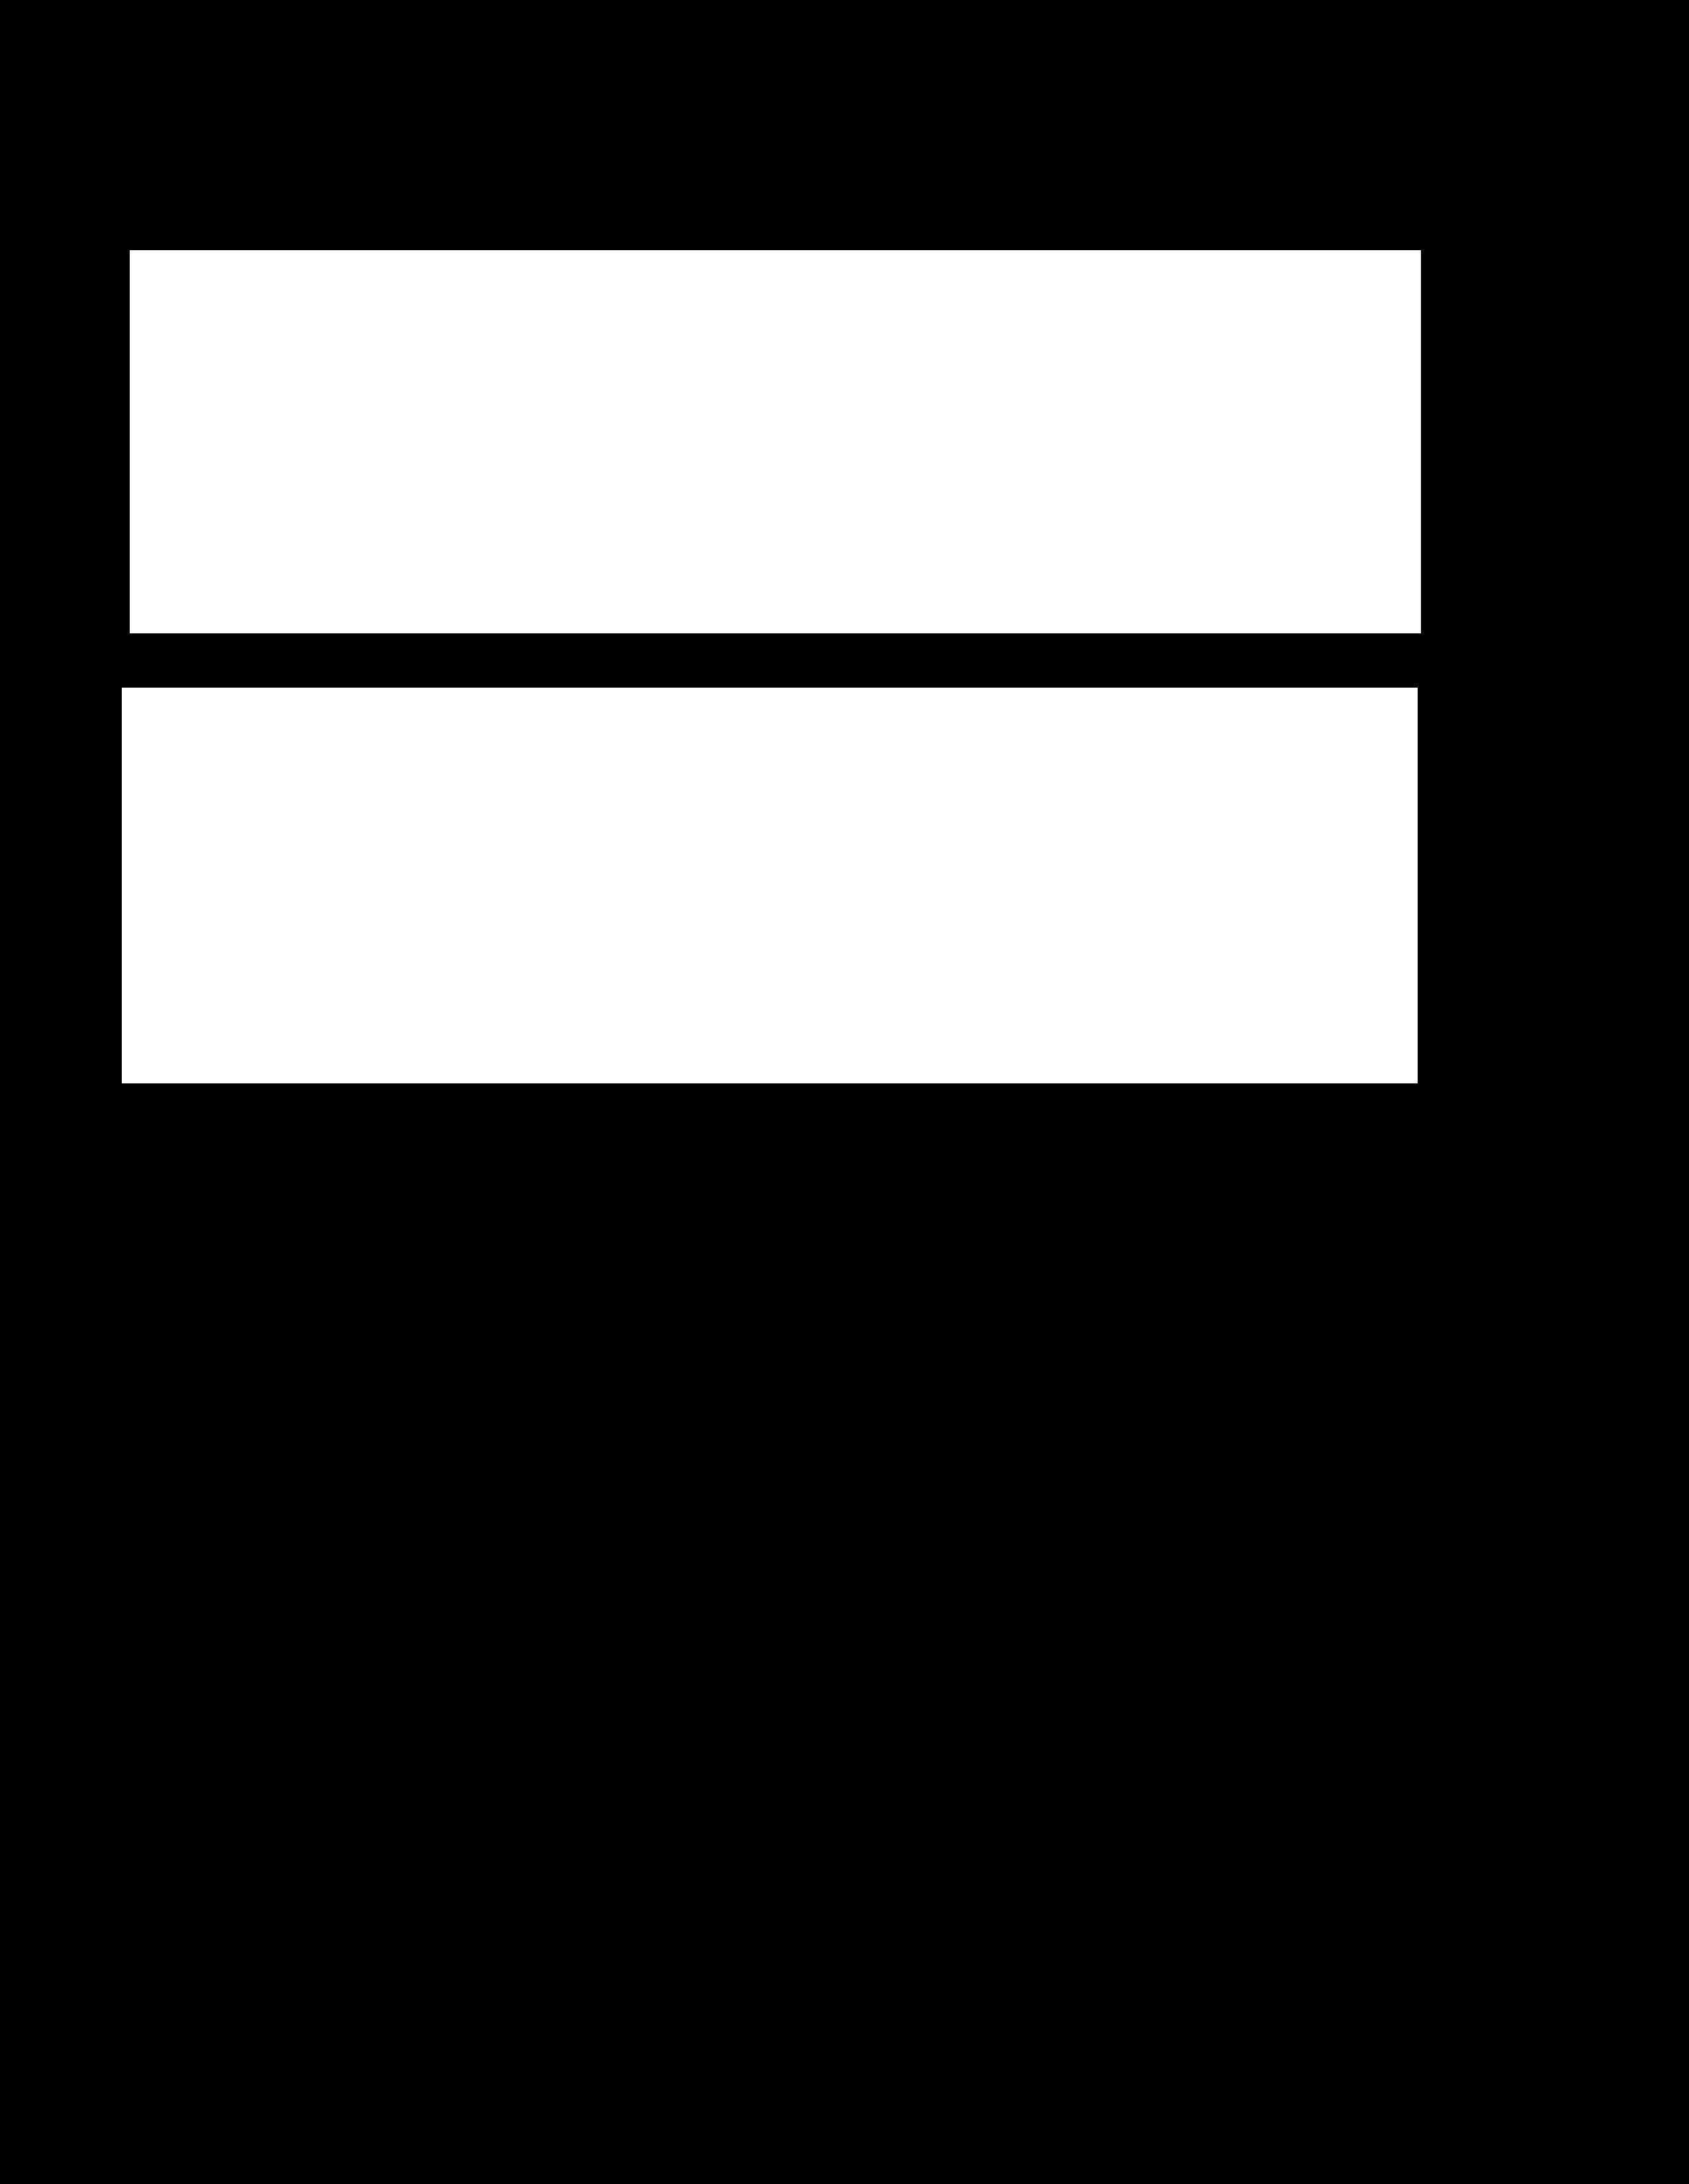table: (122, 688, 1418, 1083), (129, 250, 1420, 633)
